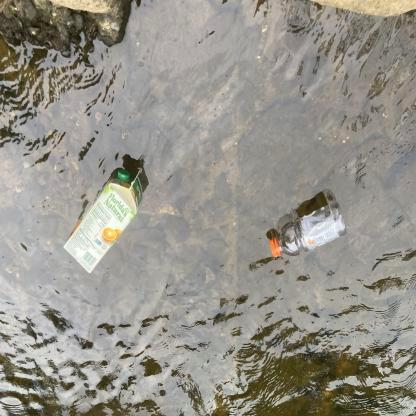Plastic: (266, 193, 349, 261)
